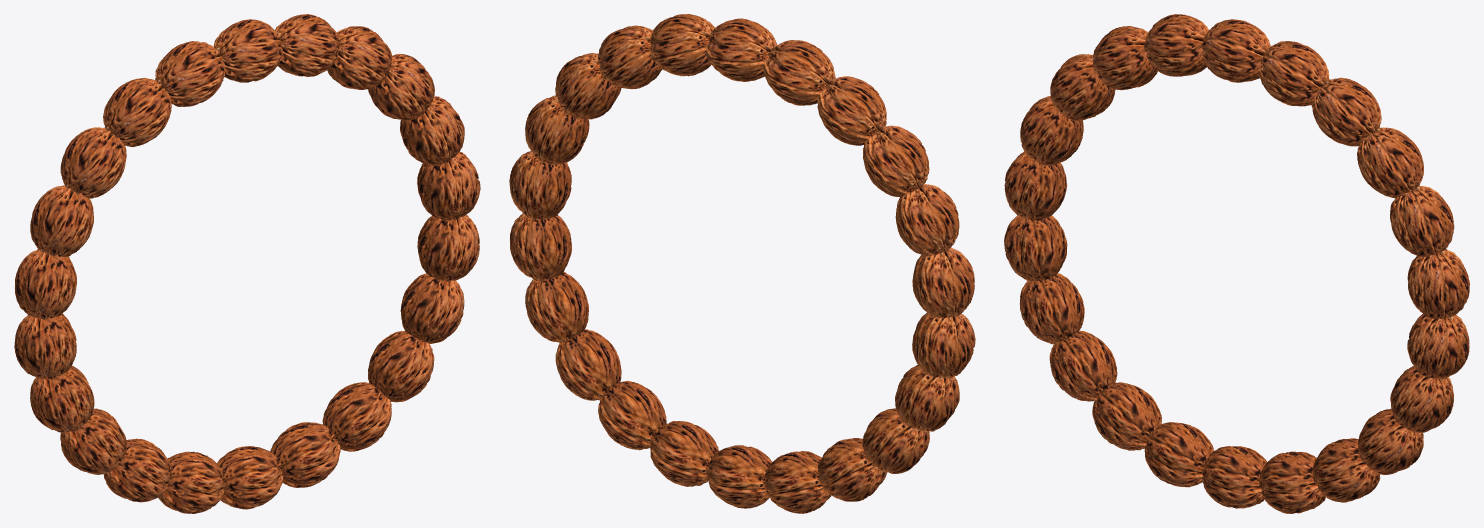
File: rudraksha-placeholder.glb
The picture shows the model from 3 angles, left to right: view 1: azimuth 30°, elevation 25°; view 2: azimuth 150°, elevation 25°; view 3: azimuth 330°, elevation 25°; orthographic projection.
Parts seen in each view (by area): view 1: 9 seed, 8 seed, 10 seed, 20 seed, 21 seed, 19 seed, 11 seed, 7 seed, 22 seed, 18 seed, 12 seed, 6 seed (+10 smaller); view 2: 10 seed, 9 seed, 8 seed, 11 seed, 20 seed, 7 seed, 19 seed, 21 seed, 22 seed, 12 seed, 18 seed, 6 seed (+10 smaller); view 3: 14 seed, 15 seed, 4 seed, 16 seed, 5 seed, 3 seed, 13 seed, 17 seed, 2 seed, 6 seed, 12 seed, 18 seed (+10 smaller).
Boxes of the visible parts, bbox=[...] form: 9 seed: bbox=[60, 127, 126, 198]; 8 seed: bbox=[30, 185, 93, 257]; 10 seed: bbox=[103, 77, 171, 147]; 20 seed: bbox=[368, 331, 434, 402]; 21 seed: bbox=[322, 382, 391, 451]; 19 seed: bbox=[400, 273, 464, 343]; 11 seed: bbox=[155, 41, 225, 106]; 7 seed: bbox=[15, 249, 76, 319]; 22 seed: bbox=[270, 422, 340, 487]; 18 seed: bbox=[417, 215, 479, 281]; 12 seed: bbox=[213, 19, 282, 82]; 6 seed: bbox=[14, 313, 76, 379]; 10 seed: bbox=[817, 76, 886, 145]; 9 seed: bbox=[863, 125, 929, 196]; 8 seed: bbox=[895, 184, 959, 255]; 11 seed: bbox=[763, 40, 835, 105]; 20 seed: bbox=[555, 329, 621, 400]; 7 seed: bbox=[912, 247, 974, 318]; 19 seed: bbox=[525, 271, 588, 342]; 21 seed: bbox=[598, 380, 666, 450]; 22 seed: bbox=[650, 421, 718, 486]; 12 seed: bbox=[705, 18, 777, 81]; 18 seed: bbox=[510, 213, 571, 281]; 6 seed: bbox=[912, 312, 975, 378]; 14 seed: bbox=[1311, 77, 1381, 146]; 15 seed: bbox=[1357, 127, 1423, 198]; 4 seed: bbox=[1049, 330, 1117, 401]; 16 seed: bbox=[1390, 185, 1454, 257]; 5 seed: bbox=[1019, 273, 1084, 344]; 3 seed: bbox=[1092, 382, 1161, 450]; 13 seed: bbox=[1258, 41, 1329, 106]; 17 seed: bbox=[1407, 249, 1469, 319]; 2 seed: bbox=[1144, 422, 1213, 487]; 6 seed: bbox=[1004, 215, 1067, 281]; 12 seed: bbox=[1201, 19, 1270, 82]; 18 seed: bbox=[1407, 314, 1469, 379].
Size of the model in its own units: 0.0639 by 0.0644 by 0.00748.
Materials: 2 (1 with a texture image).
